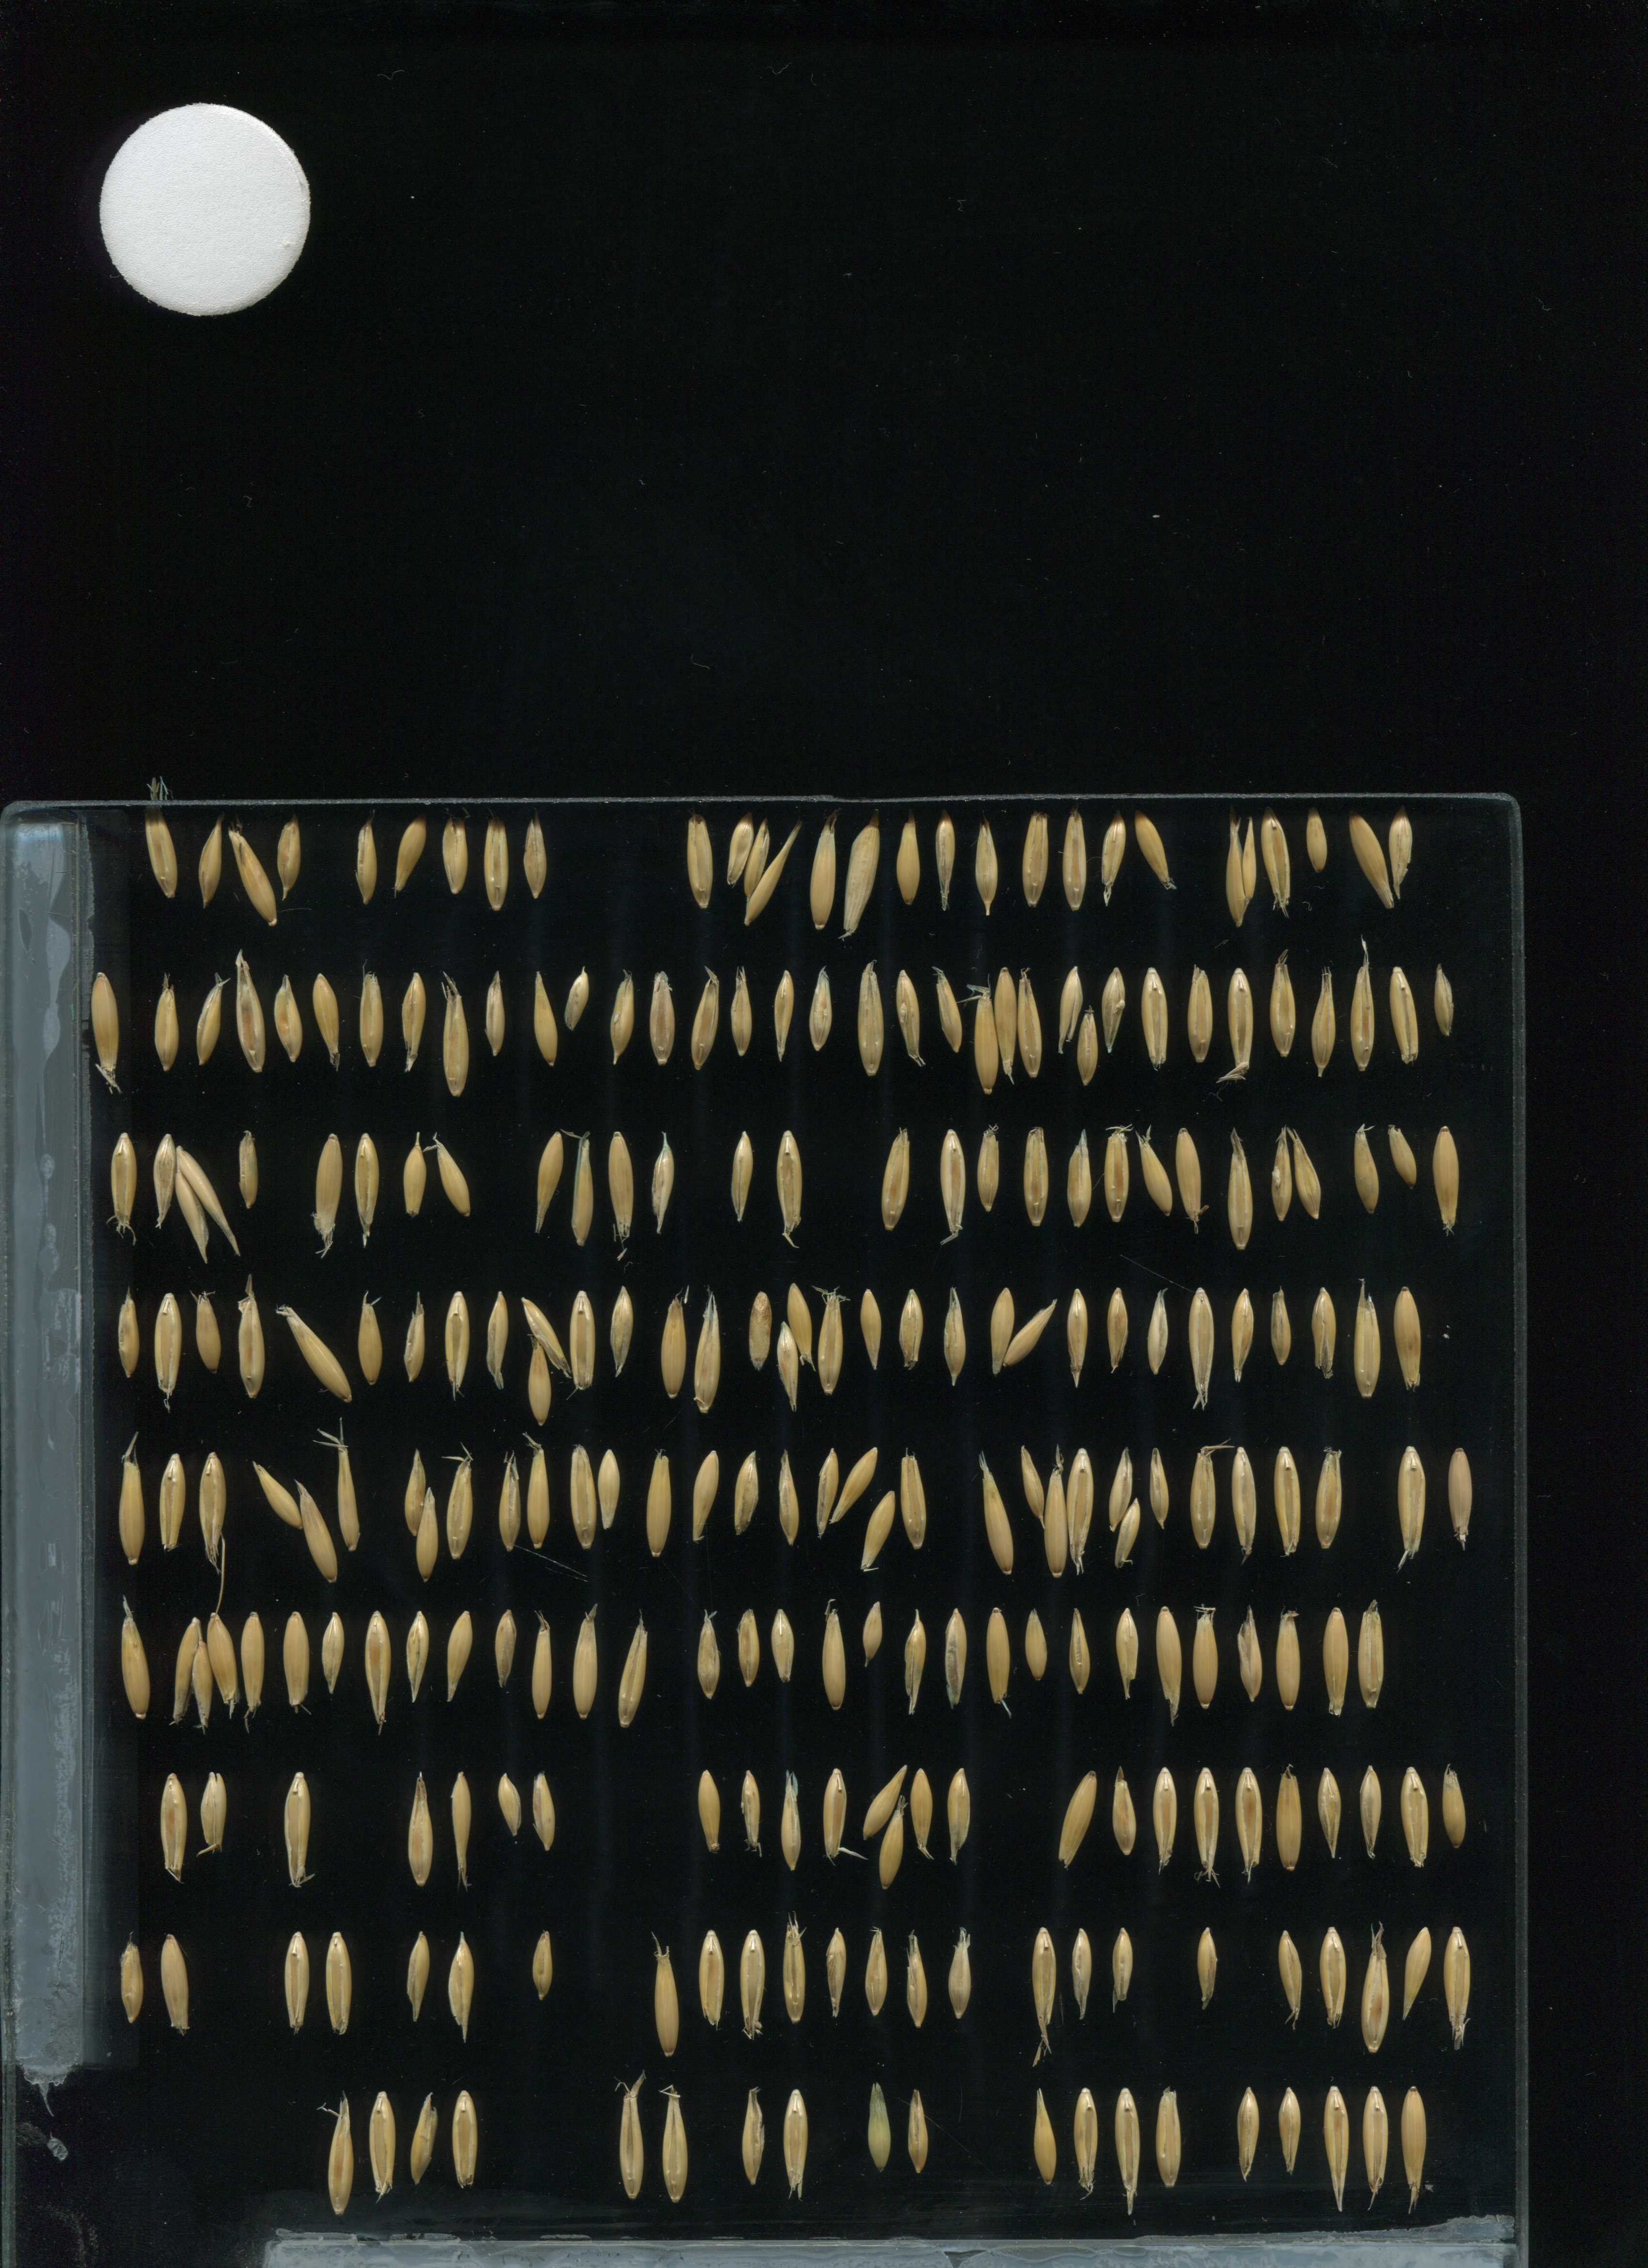NakedGrain: (745, 1284, 773, 1381), (1303, 798, 1336, 879), (898, 1284, 926, 1379), (734, 1602, 764, 1690), (563, 961, 593, 1039), (236, 1129, 261, 1213), (861, 1597, 886, 1671)
WholeGrain: (271, 1298, 352, 1405), (171, 1146, 245, 1263), (739, 812, 808, 924), (224, 828, 280, 933), (359, 1602, 398, 1740), (822, 1442, 884, 1528), (1345, 808, 1394, 914), (840, 812, 880, 940), (1053, 1766, 1099, 1874), (850, 958, 889, 1083), (516, 1292, 574, 1375), (1220, 808, 1259, 931), (85, 968, 123, 1092), (861, 1757, 916, 1844), (232, 951, 269, 1076), (433, 976, 470, 1101), (1218, 960, 1255, 1085), (1305, 960, 1342, 1085), (1343, 954, 1380, 1079), (1262, 942, 1299, 1065), (326, 1432, 363, 1555), (1002, 1296, 1063, 1368), (232, 1282, 269, 1402), (1312, 1439, 1349, 1558), (491, 1439, 528, 1558), (688, 1435, 725, 1555), (775, 1912, 812, 2032), (157, 1919, 194, 2039), (1438, 1923, 1472, 2055), (1321, 2078, 1354, 2210), (1113, 2083, 1146, 2215), (1069, 2081, 1102, 2213), (658, 2081, 692, 2213), (616, 2078, 650, 2210), (688, 1294, 725, 1412), (157, 1768, 194, 1886), (1354, 1757, 1391, 1875), (1273, 1914, 1310, 2032), (444, 2078, 481, 2196), (1359, 2078, 1393, 2208), (428, 1132, 477, 1220), (977, 1462, 1014, 1578), (296, 1477, 335, 1587), (1391, 1277, 1426, 1396), (1349, 1282, 1384, 1402), (1185, 1285, 1220, 1405), (658, 1287, 694, 1407), (563, 1284, 599, 1403), (1444, 1437, 1479, 1557), (1394, 1442, 1430, 1562), (1269, 1440, 1305, 1560), (1185, 1437, 1220, 1557), (1042, 1462, 1078, 1581), (155, 1444, 190, 1564), (194, 1446, 229, 1565), (442, 1442, 477, 1562), (639, 1440, 674, 1560), (731, 1435, 766, 1555), (401, 1768, 437, 1888), (819, 1757, 854, 1877), (940, 1756, 975, 1875), (1104, 1756, 1139, 1875), (1188, 1763, 1224, 1882), (1271, 1761, 1306, 1881), (1396, 1757, 1431, 1877), (1437, 1754, 1472, 1874), (1315, 1914, 1350, 2034), (1026, 1925, 1062, 2044), (736, 1923, 771, 2043), (692, 1919, 727, 2039), (444, 1925, 479, 2044), (322, 1919, 357, 2039), (282, 1919, 317, 2039), (734, 2076, 769, 2196), (778, 2081, 813, 2201), (1359, 1923, 1391, 2055), (1396, 2080, 1428, 2212), (366, 2078, 398, 2210), (324, 2087, 356, 2219), (1261, 805, 1298, 917), (1431, 1123, 1467, 1241), (813, 1287, 849, 1405), (150, 1289, 185, 1407), (1229, 1442, 1264, 1560), (1063, 1446, 1099, 1564), (113, 1447, 148, 1565), (525, 1439, 560, 1557), (563, 1437, 599, 1555), (773, 1437, 808, 1555), (808, 1435, 843, 1553), (116, 1609, 151, 1727), (276, 1768, 312, 1886), (442, 1770, 477, 1888), (775, 1761, 810, 1879), (1150, 1759, 1185, 1877), (1232, 1763, 1268, 1881), (1312, 1759, 1347, 1877), (1400, 1914, 1435, 2032), (650, 1940, 685, 2058), (408, 2076, 444, 2194), (1229, 2076, 1264, 2194), (1151, 2080, 1187, 2198), (990, 956, 1021, 1086), (854, 1488, 901, 1574), (1224, 1125, 1255, 1254), (614, 1611, 648, 1733), (204, 1606, 241, 1715), (276, 1608, 313, 1715), (144, 972, 181, 1078), (188, 972, 225, 1078), (310, 967, 347, 1072), (273, 967, 310, 1072), (396, 1287, 433, 1393), (604, 1282, 641, 1388), (856, 1282, 893, 1388), (937, 1282, 974, 1388), (1305, 1280, 1342, 1386), (1271, 2080, 1310, 2180), (248, 1458, 303, 1528), (479, 814, 516, 917), (681, 810, 718, 914), (352, 968, 389, 1072), (109, 1282, 146, 1386), (1132, 805, 1176, 891), (438, 1602, 475, 1705), (820, 1602, 854, 1715), (896, 1604, 930, 1717), (937, 1602, 970, 1715), (981, 1602, 1014, 1715), (1187, 1602, 1220, 1715), (1271, 1604, 1305, 1717), (1317, 1606, 1350, 1719), (1354, 1597, 1387, 1710), (173, 1613, 204, 1731), (143, 803, 178, 909), (194, 1282, 229, 1388), (357, 1285, 393, 1391), (440, 1287, 475, 1393), (481, 1287, 516, 1393), (1099, 1278, 1134, 1384), (1224, 1280, 1259, 1386), (1151, 1604, 1185, 1715), (1026, 2085, 1063, 2185), (113, 1935, 151, 2030), (396, 1923, 435, 2018), (396, 968, 431, 1072), (1060, 1280, 1095, 1384), (1141, 1278, 1176, 1382), (970, 817, 1005, 919), (784, 1277, 820, 1373), (1139, 961, 1171, 1074), (606, 1130, 637, 1243), (771, 1127, 803, 1240), (1062, 1122, 1093, 1234), (1102, 1120, 1134, 1233), (1173, 1120, 1204, 1233), (236, 1606, 268, 1719), (435, 808, 475, 896), (773, 1322, 812, 1414), (107, 1129, 141, 1234), (1231, 1601, 1264, 1706), (873, 1796, 909, 1896), (1065, 1923, 1100, 2023), (1190, 1919, 1225, 2020), (901, 2080, 937, 2180), (812, 812, 840, 937), (1380, 808, 1417, 903), (688, 961, 720, 1072), (312, 1129, 343, 1240), (350, 1129, 382, 1240), (533, 1125, 565, 1236), (569, 1134, 600, 1245), (880, 1125, 912, 1236), (1019, 1123, 1051, 1234), (396, 1130, 433, 1226), (194, 1763, 231, 1858), (900, 1933, 935, 2032), (1291, 1129, 1328, 1222), (516, 815, 555, 903), (1109, 1595, 1141, 1703), (271, 808, 308, 900), (1060, 801, 1090, 914), (1185, 958, 1215, 1071), (1387, 960, 1417, 1072), (606, 963, 636, 1076), (646, 961, 676, 1074), (727, 961, 757, 1074), (764, 961, 794, 1074), (937, 1125, 967, 1238), (526, 1611, 556, 1724), (820, 1925, 854, 2025), (859, 1925, 893, 2025), (944, 1925, 977, 2025), (864, 2078, 898, 2178), (1139, 1127, 1174, 1222), (972, 1123, 1007, 1219), (725, 1129, 761, 1224), (393, 808, 431, 895), (1023, 803, 1053, 914), (1055, 954, 1088, 1053), (1018, 965, 1046, 1081), (1426, 954, 1463, 1042), (1350, 1125, 1387, 1213), (194, 812, 227, 909), (1264, 1125, 1298, 1222), (1097, 963, 1132, 1055), (893, 965, 924, 1065), (1063, 1606, 1097, 1701), (1262, 1284, 1298, 1373), (970, 984, 998, 1095), (650, 1125, 678, 1236), (1014, 1442, 1051, 1527), (694, 1766, 729, 1854), (532, 970, 563, 1067), (350, 817, 384, 909), (764, 1606, 801, 1689), (898, 1447, 928, 1550), (403, 1601, 431, 1708), (694, 1608, 725, 1703), (572, 1609, 599, 1722), (909, 1761, 937, 1867), (528, 1770, 562, 1858), (525, 1921, 558, 2009), (319, 1602, 349, 1699), (724, 803, 757, 889), (525, 1342, 556, 1432), (931, 808, 958, 916), (1384, 1116, 1421, 1192), (188, 1639, 217, 1738), (1021, 1608, 1055, 1690), (935, 967, 965, 1058), (1106, 1439, 1134, 1535), (990, 1278, 1016, 1381), (416, 1484, 440, 1594), (1146, 1442, 1176, 1532), (1106, 1926, 1139, 2006), (896, 815, 924, 909), (806, 960, 835, 1053), (1072, 1005, 1104, 1088), (1100, 806, 1127, 905), (1111, 1497, 1146, 1571), (738, 1761, 764, 1859), (481, 967, 509, 1058), (597, 1446, 625, 1537), (743, 817, 775, 898), (493, 1771, 526, 1847), (493, 1606, 519, 1697), (401, 1446, 428, 1535), (155, 1129, 176, 1231)
